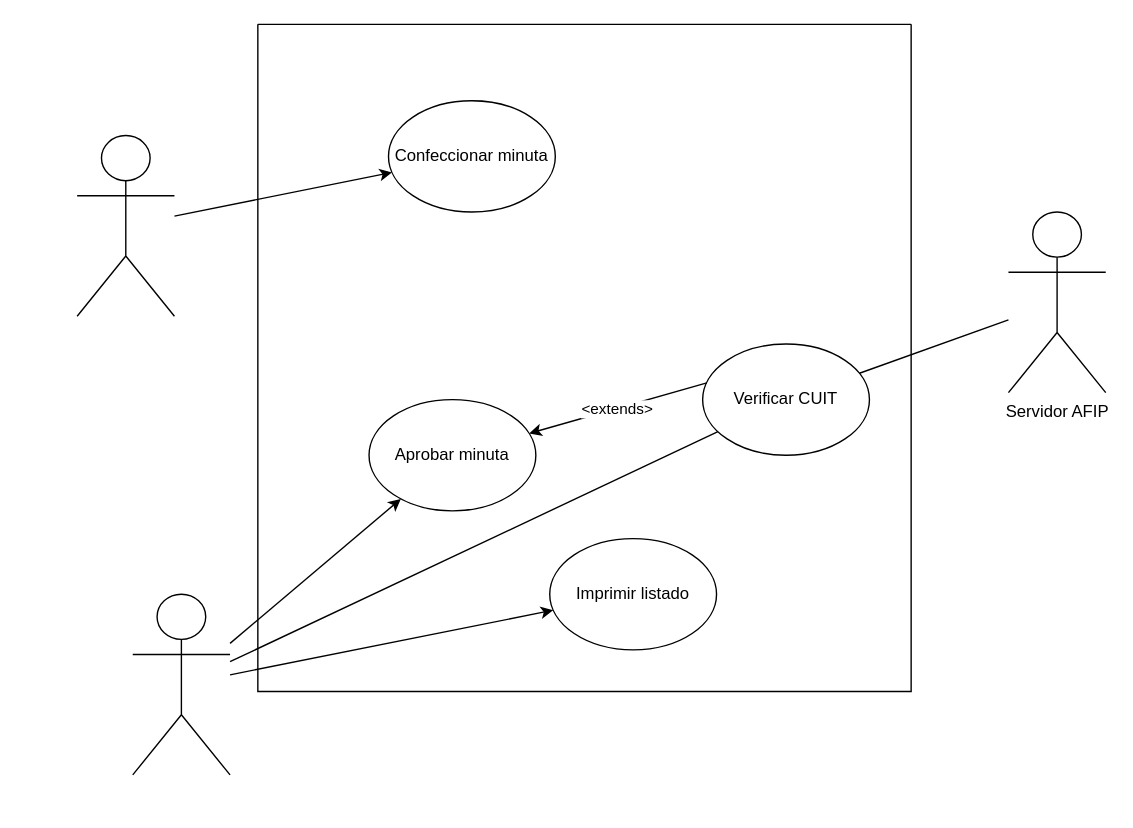
The diagram is 1133 pixels wide and 828 high, and some of its shapes have lost their labels. Here are the shapes that lost their labels. From the top down, the centre of each, then its label:
the point at 125,225: Empleado mesa de entrada
the point at 180,684: Empleado de rendiciones
